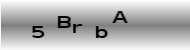5: (30, 25, 44, 38)
A: (112, 10, 130, 24)
B: (55, 14, 72, 28)
b: (94, 25, 108, 38)
r: (71, 23, 83, 34)
